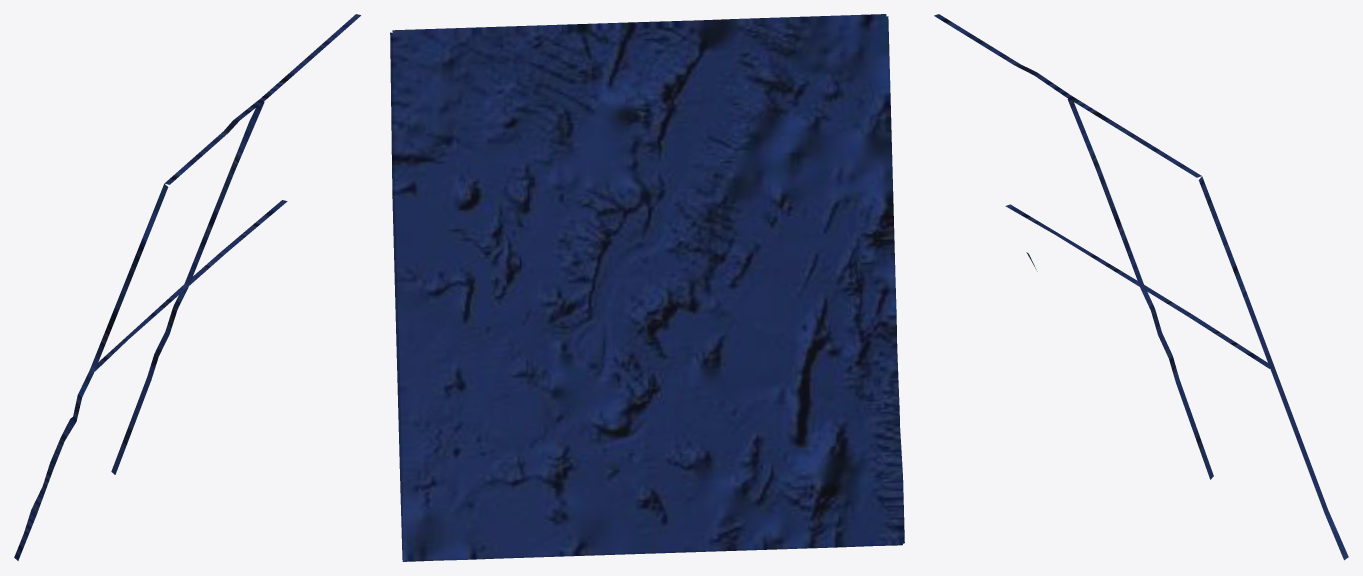
The picture shows the model from 3 angles, left to right: view 1: azimuth 30°, elevation 25°; view 2: azimuth 150°, elevation 25°; view 3: azimuth 270°, elevation 25°; orthographic projection. The views are drawn at different scales.
Size of the model in its own units: 153682 by 148321 by 130861.
1 material, 1 textured.
